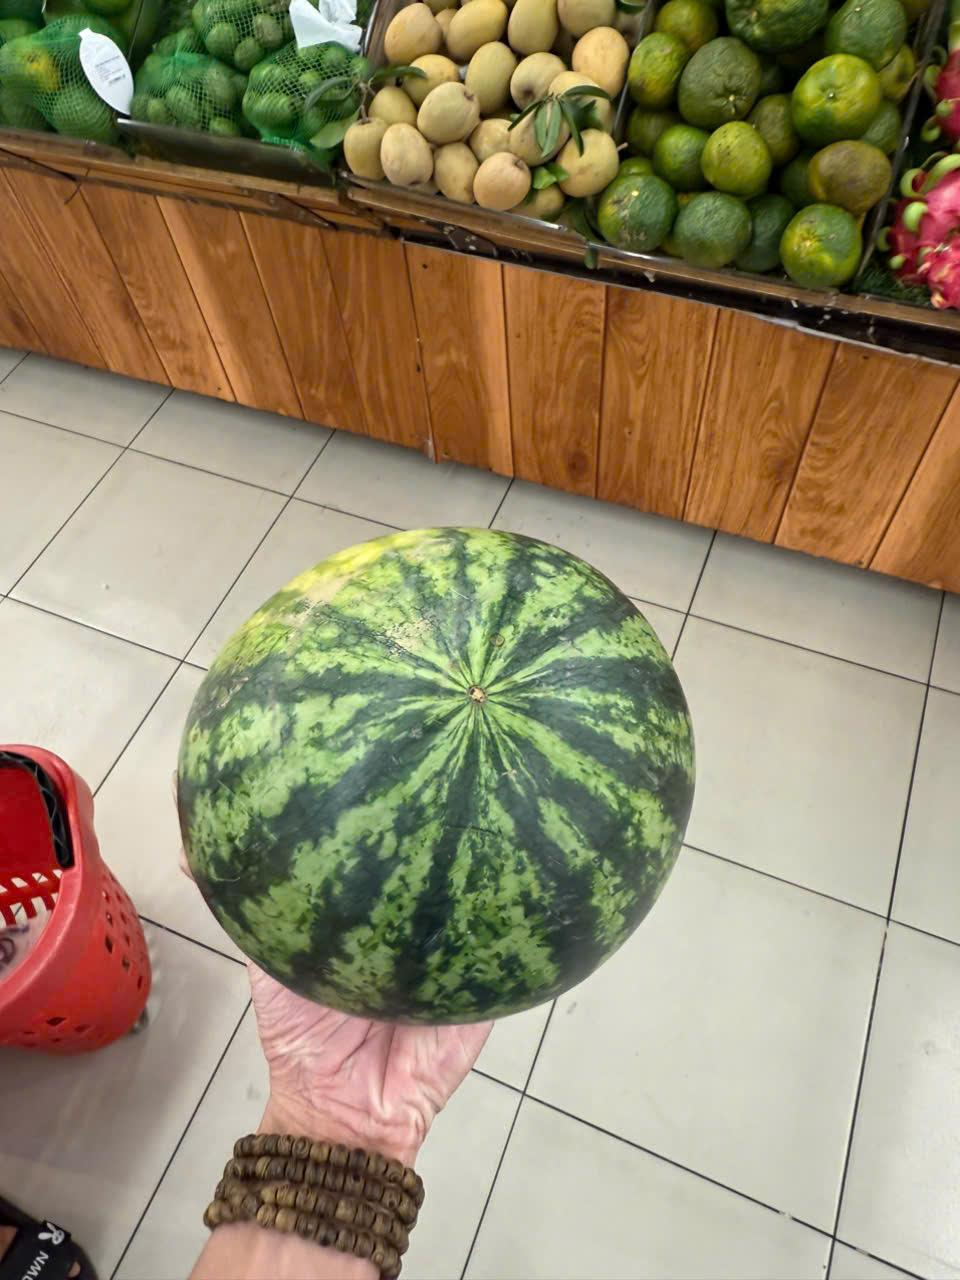watermelon: (167, 515, 710, 1010)
